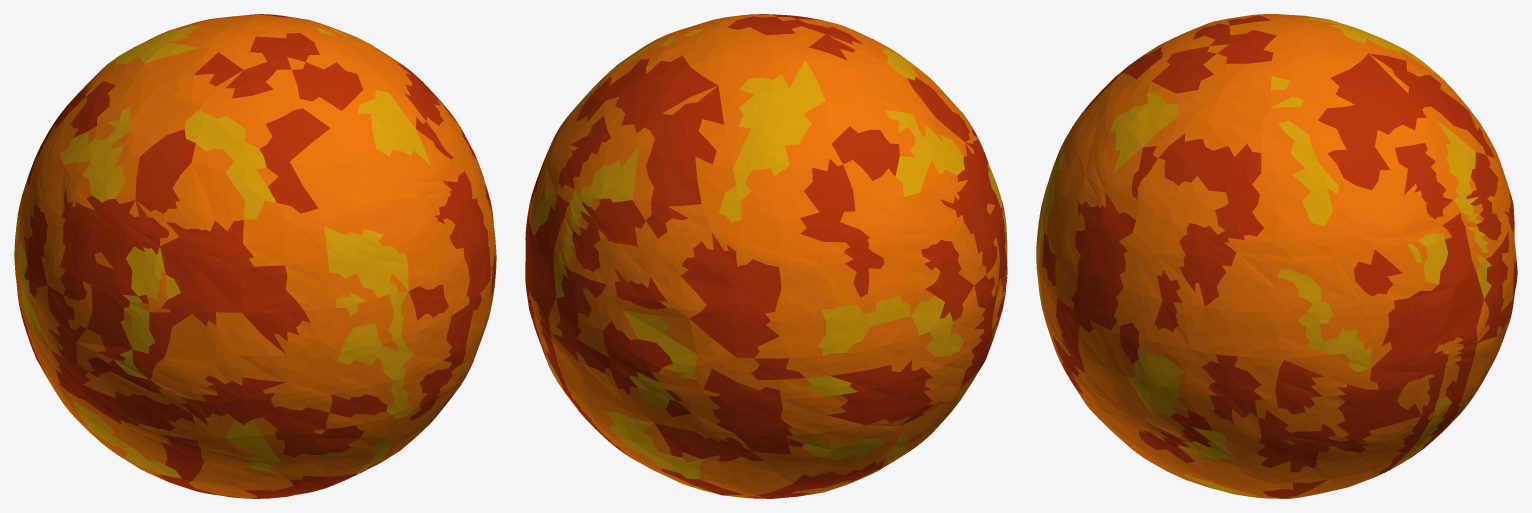
File: Mars.gltf
3 views of the same model, side by side, from view 1: azimuth 30°, elevation 25°; view 2: azimuth 150°, elevation 25°; view 3: azimuth 270°, elevation 25° (orthographic).
Visible parts, largest first — view 1: node-0; view 2: node-0; view 3: node-0.
Boxes of the visible parts, left/top/right/bottom form: node-0: left=14, top=14, right=496, bottom=498; node-0: left=525, top=14, right=1007, bottom=498; node-0: left=1036, top=14, right=1517, bottom=498.
Bounding box in the file's own units: 316437 × 318876 × 315736.
